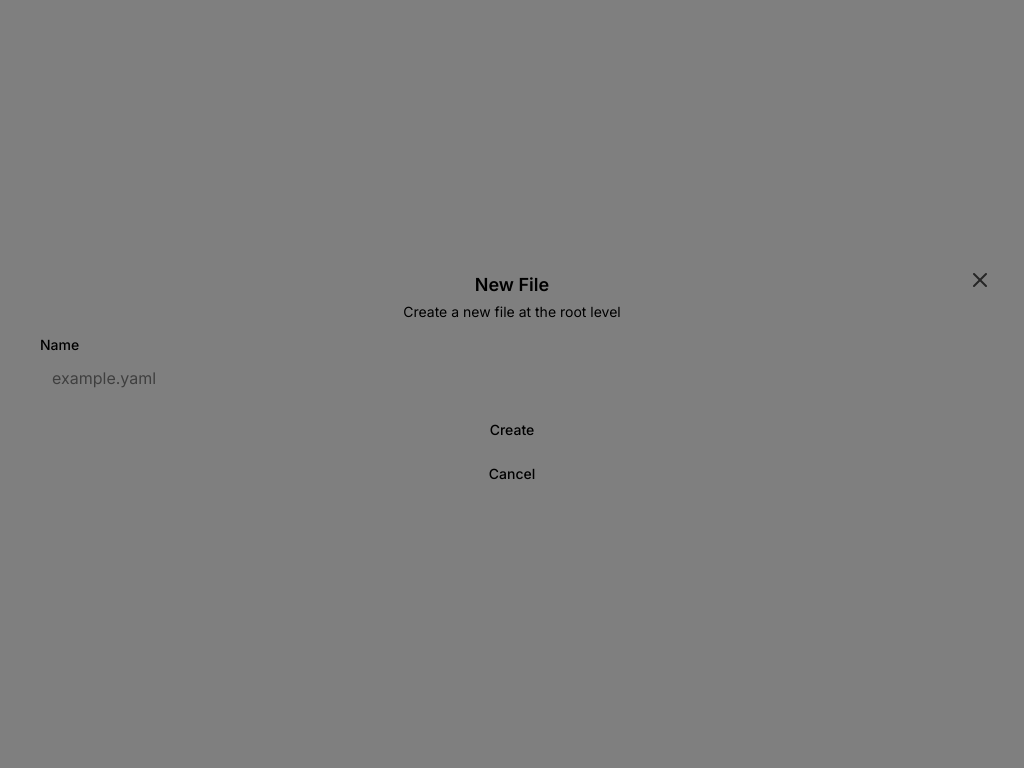
it: NewItemDialog › should validate file name for invalid characters
The image size is (1024, 768).
Type "file/with/slashes" into the field at (512, 378), box [40, 360, 984, 396]
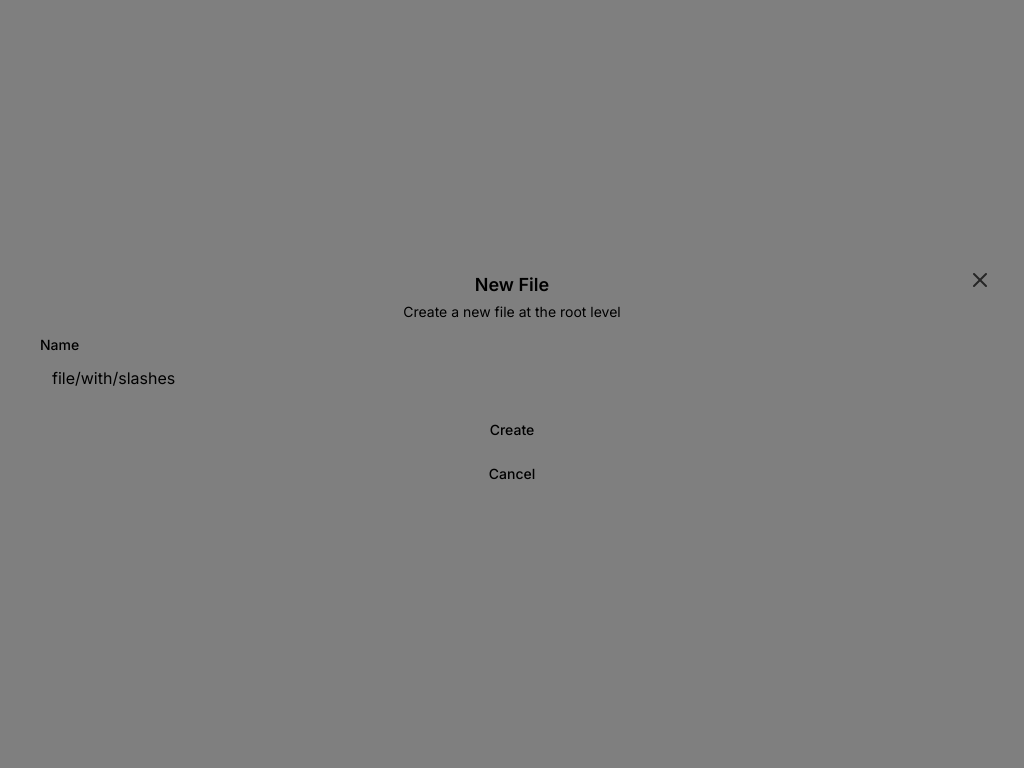
Click the button "Create" at (512, 430), box [40, 412, 984, 448]
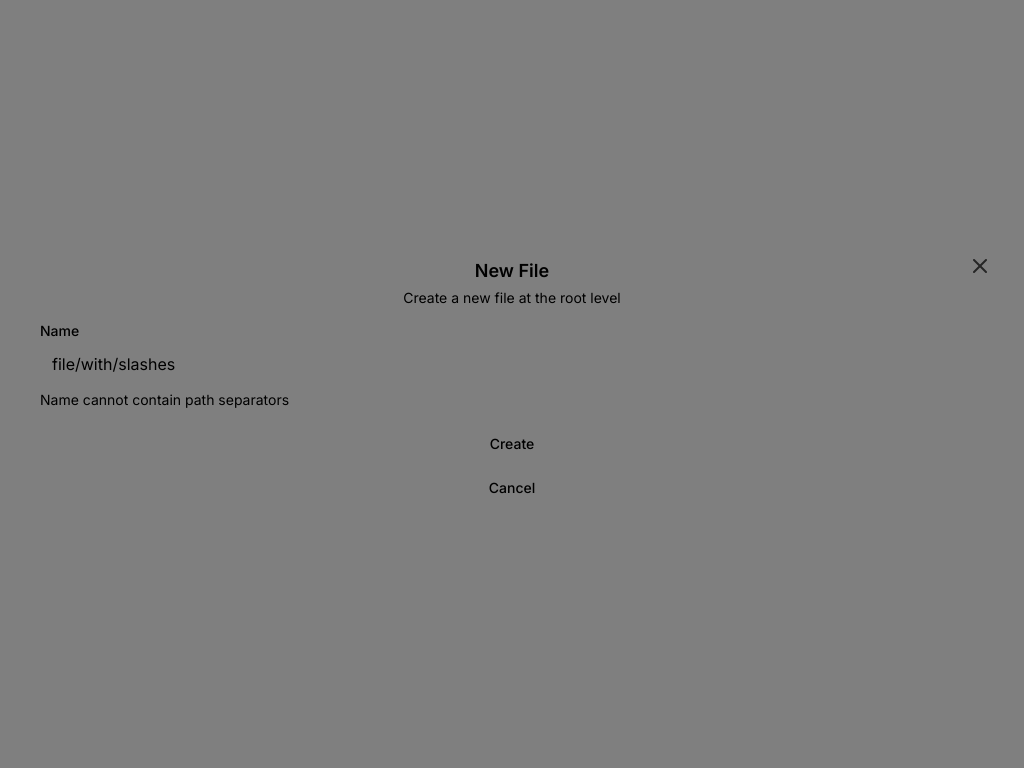
Expected: the text "Name cannot contain path separators" is shown, [40, 391, 289, 408]
